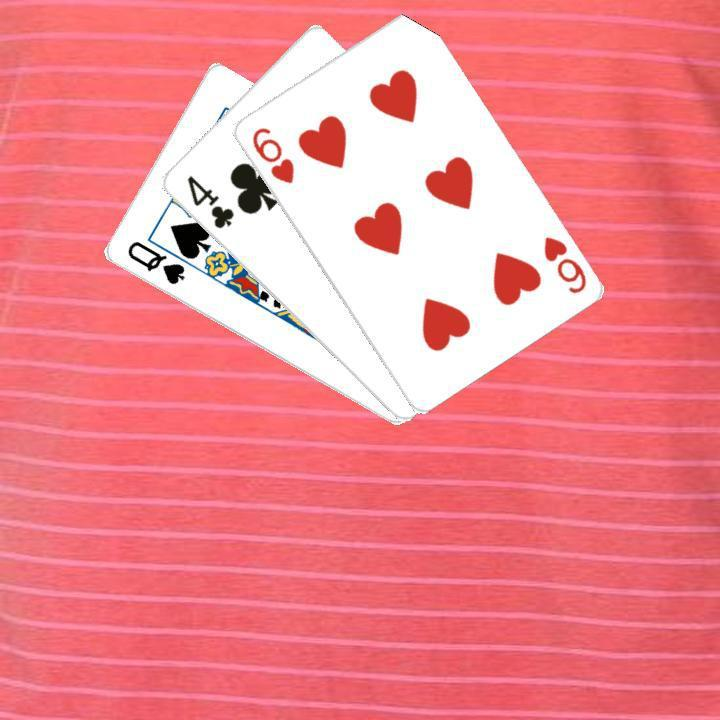4: (182, 171, 236, 231)
6: (246, 122, 296, 186), (538, 232, 588, 296)
Q: (122, 236, 187, 287)
